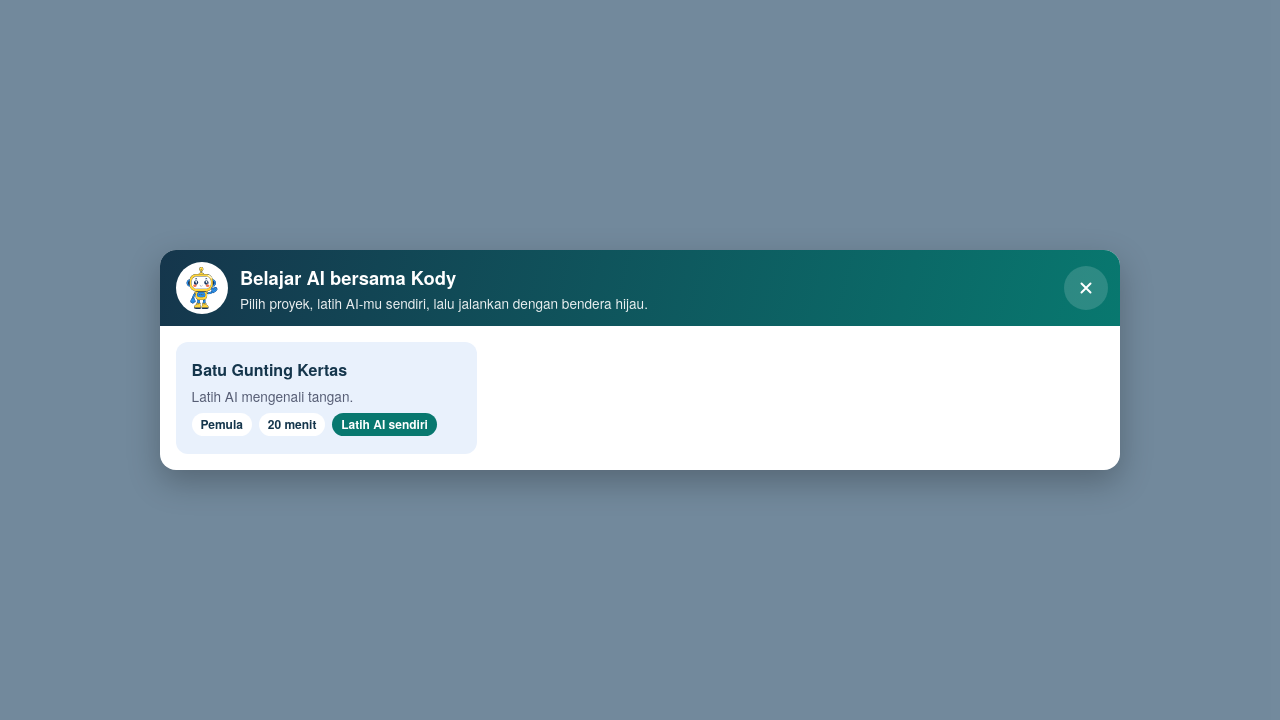
it: AiTutorials › kartu -> detail -> buka contoh -> latih AI di tab yang benar
Later steps or results of the test are not shown.
Click the button that starts with "Batu Gunting Kertas" at {"x": 327, "y": 398}, box [176,342,477,454]
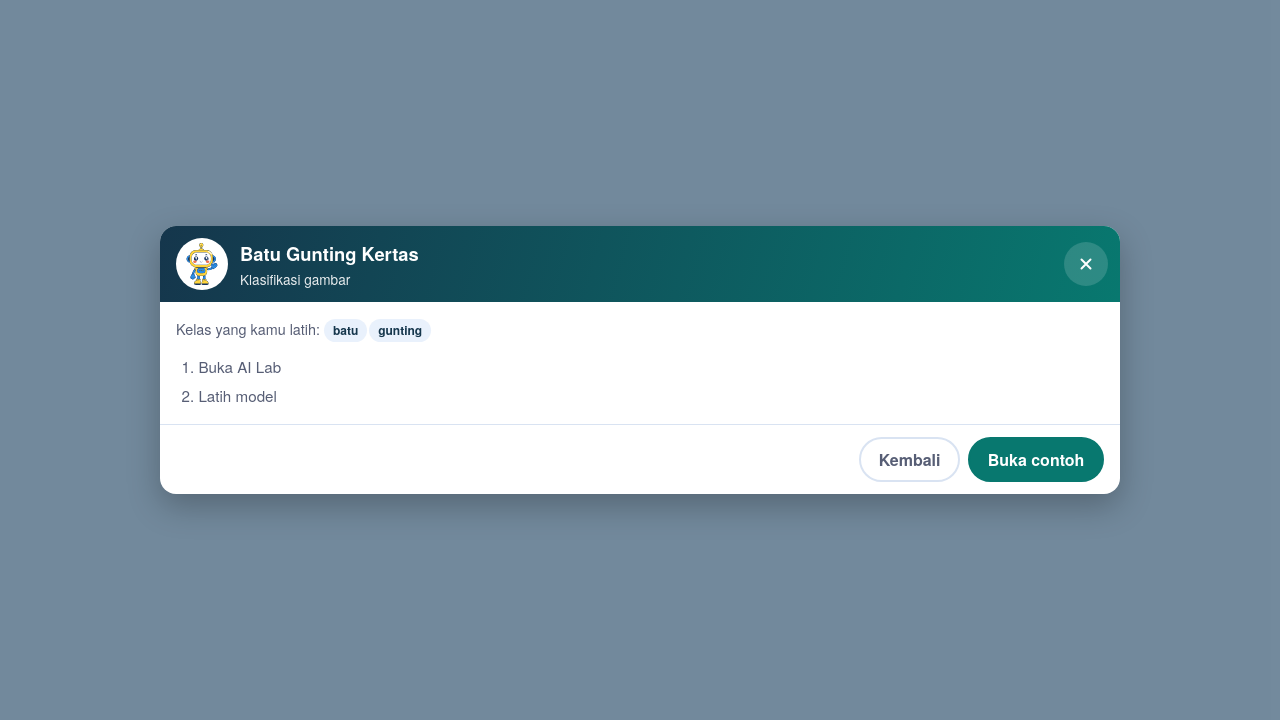
Expected: the text "Gunting" is shown, [240,240,419,267]
Result: the text "Latih model" is shown at [198,385,277,406]
Click the button "Buka contoh" at {"x": 1036, "y": 459}, box [968,437,1104,482]
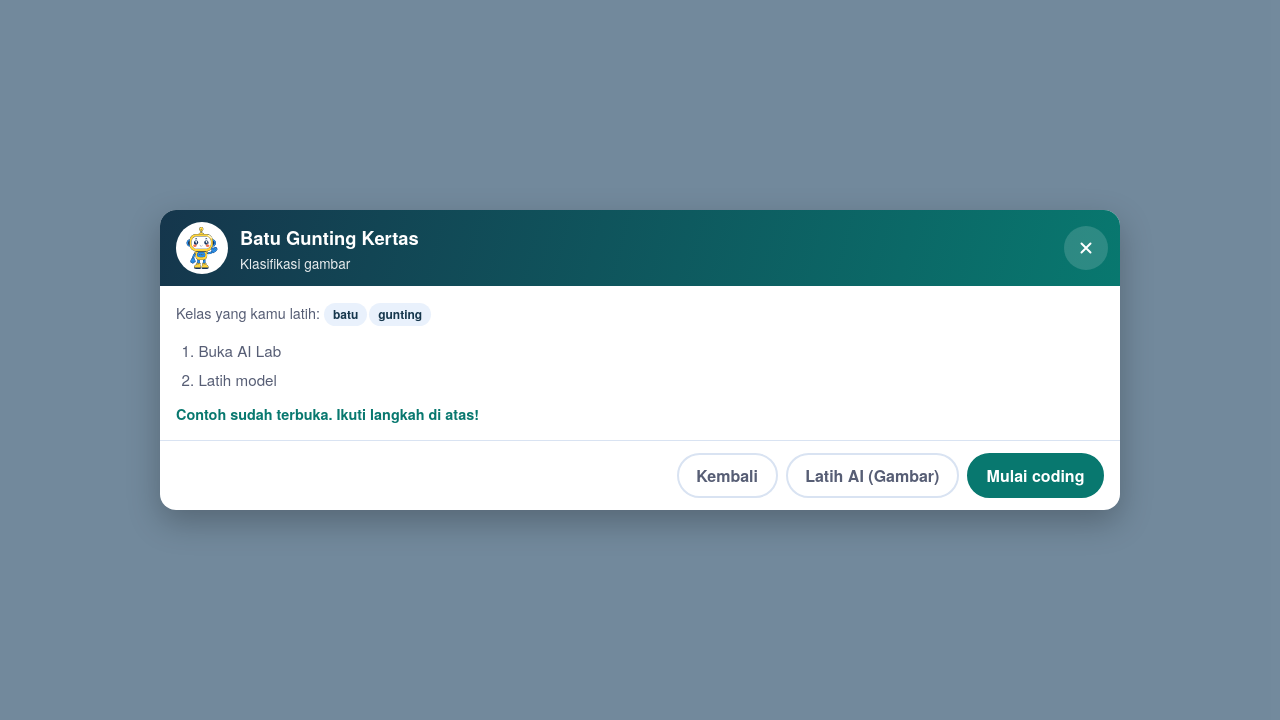
Result: the text "Contoh sudah terbuka" is shown at [176,404,479,424]
